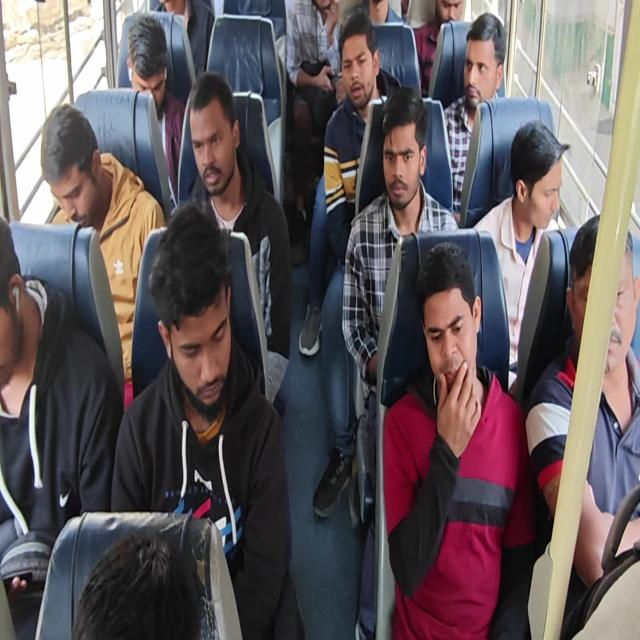person: (1, 1, 638, 638), (110, 200, 305, 638), (382, 241, 537, 638), (0, 215, 124, 637), (341, 86, 460, 502), (525, 213, 639, 590), (40, 103, 166, 409), (182, 71, 293, 414), (298, 10, 401, 356), (472, 119, 570, 387), (285, 0, 343, 259), (72, 528, 202, 639), (443, 12, 507, 219), (125, 14, 186, 206), (410, 0, 464, 97), (151, 0, 215, 78), (353, 0, 404, 25)
